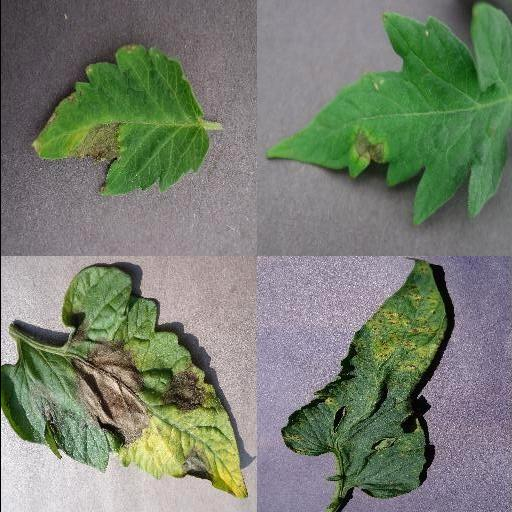Late Blight: (0, 264, 250, 499), (263, 3, 512, 227), (30, 45, 210, 197)
Septoria: (280, 258, 448, 500)
